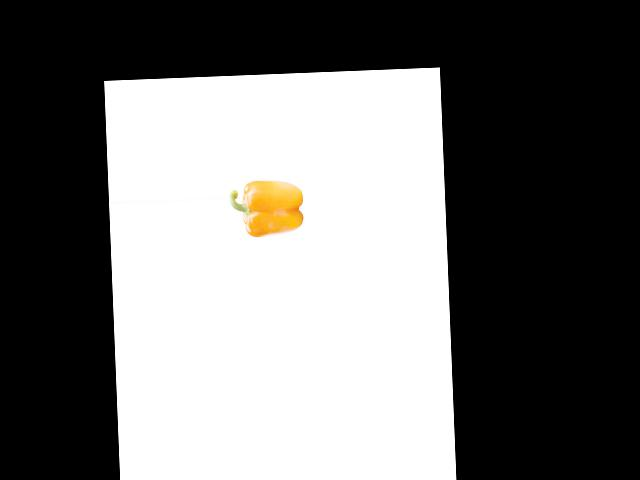bell_pepper: (228, 172, 305, 243)
